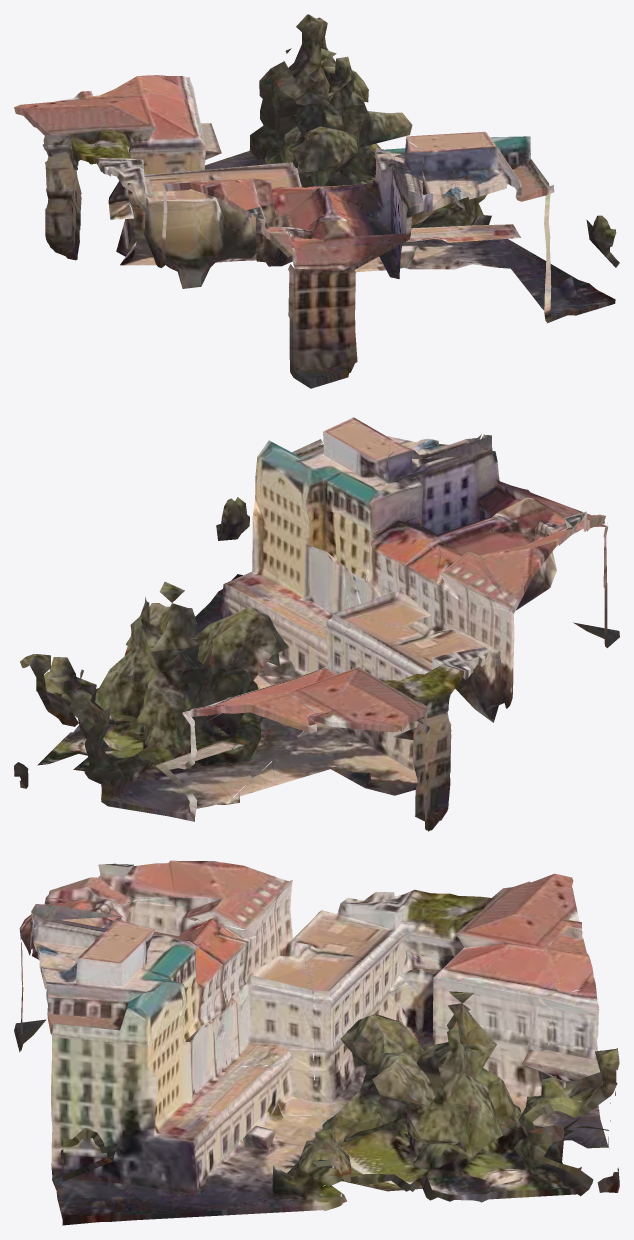
3 renders of one model, top to bottom at view 1: azimuth 30°, elevation 25°; view 2: azimuth 150°, elevation 25°; view 3: azimuth 270°, elevation 25°, orthographic. The views are drawn at different scales.
Visible parts, largest first — view 1: Mesh_0; view 2: Mesh_0; view 3: Mesh_0.
Part boxes in pixels (bbox=[...]): Mesh_0: bbox=[14, 14, 619, 388]; Mesh_0: bbox=[14, 417, 619, 831]; Mesh_0: bbox=[14, 860, 619, 1225].
Size of the model in its own units: 67.5 by 30.94 by 82.61.
1 material, 1 textured.
